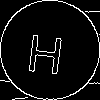H: (25, 25, 66, 75)
